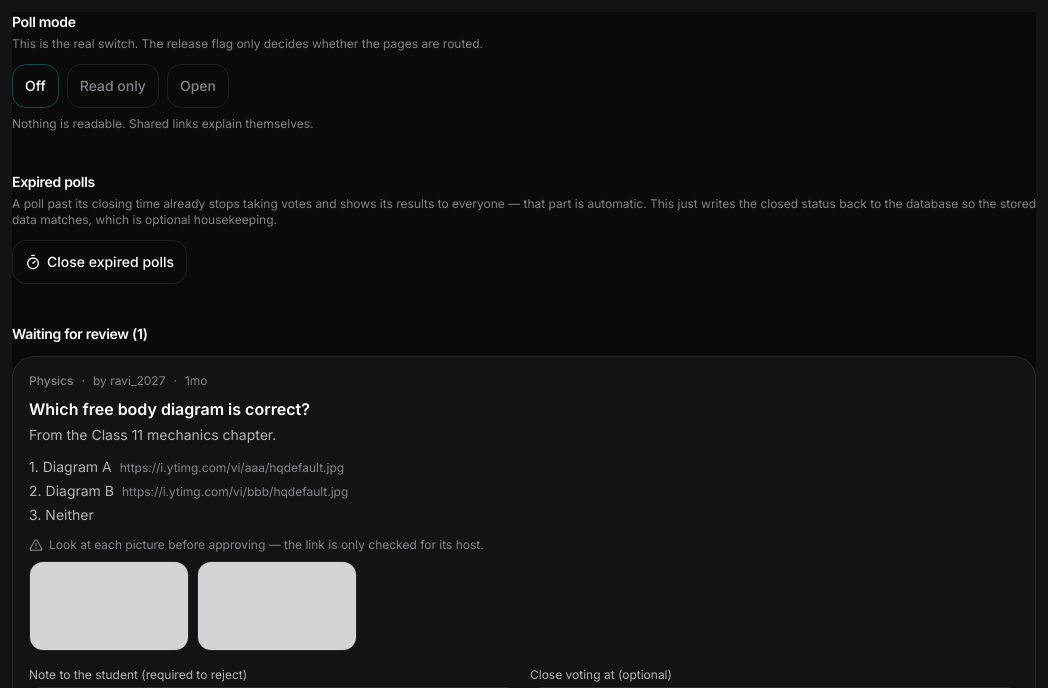
Test: expired polls › surfaces a refusal instead of silently doing nothing
Click the button "Close expired polls" at point(100, 262), box [12,240,187,284]
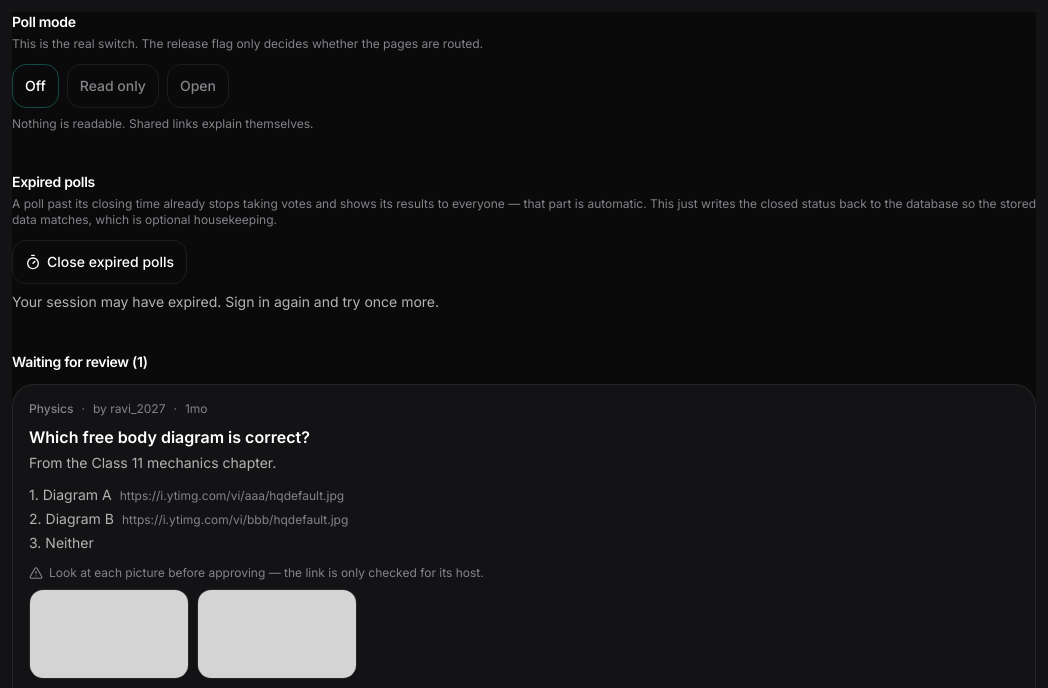
Check: the text "Your session may have expired. Sign in again and try once more." is shown, box [12,293,439,310]
